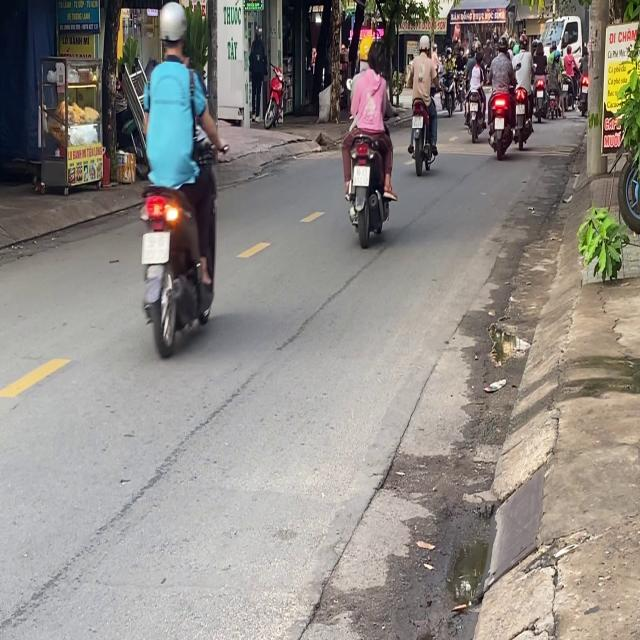helmet: (158, 0, 188, 60), (356, 31, 374, 70), (418, 34, 430, 54)
licenseplate: (134, 0, 223, 356), (339, 30, 397, 245), (406, 32, 439, 172)
motorcyclist: (364, 36, 380, 73)
nohelmet: (141, 232, 169, 263), (352, 166, 370, 186), (412, 116, 423, 128)
